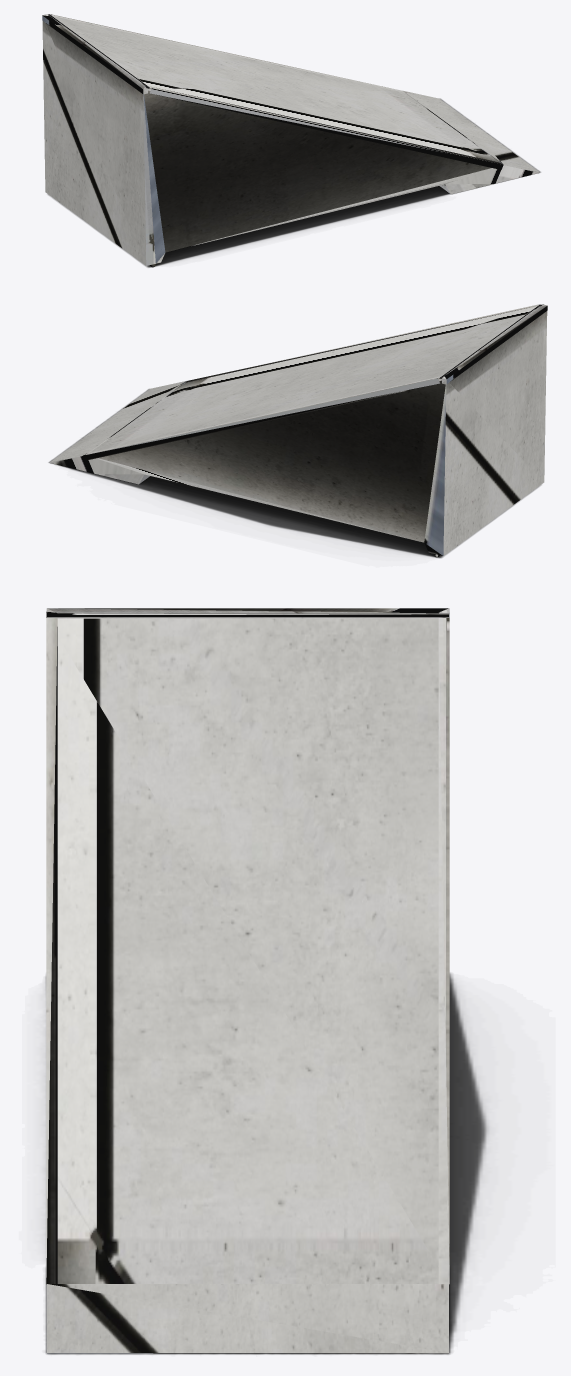
Rendered from bank-125.gltf.
3 views of the same model, one above another, from view 1: azimuth 30°, elevation 25°; view 2: azimuth 150°, elevation 25°; view 3: azimuth 270°, elevation 25° (orthographic). The views are drawn at different scales.
Parts seen in each view (by area): view 1: SK1160_Bank_125.001, Schatten; view 2: SK1160_Bank_125.001, Schatten; view 3: SK1160_Bank_125.001, Schatten.
Boxes of the visible parts, x1,y1,x2,y2 form: SK1160_Bank_125.001: (42,14,539,267); Schatten: (47,98,540,267); SK1160_Bank_125.001: (49,304,547,557); Schatten: (48,389,540,558); SK1160_Bank_125.001: (46,608,449,1353); Schatten: (45,973,488,1354).
Size of the model in its own units: 2.9 by 1.23 by 1.68.
Materials: 4 (4 with a texture image).
